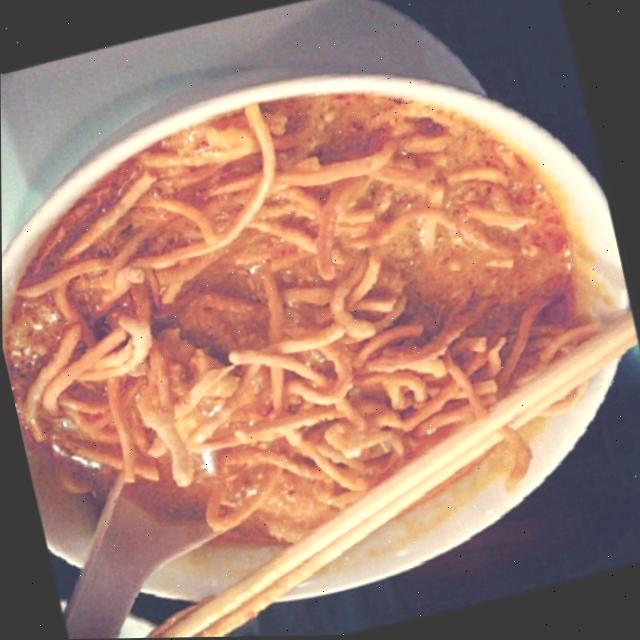面条主食: (0, 31, 640, 640)
